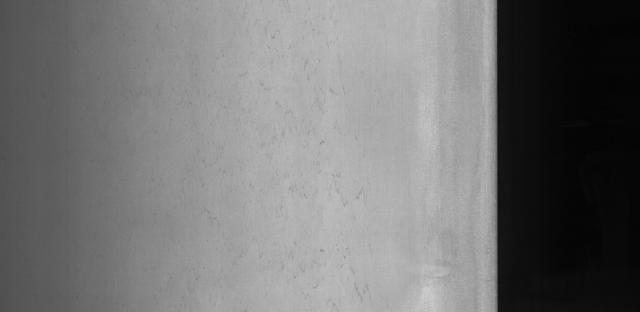silk_spot: (216, 13, 352, 294)
